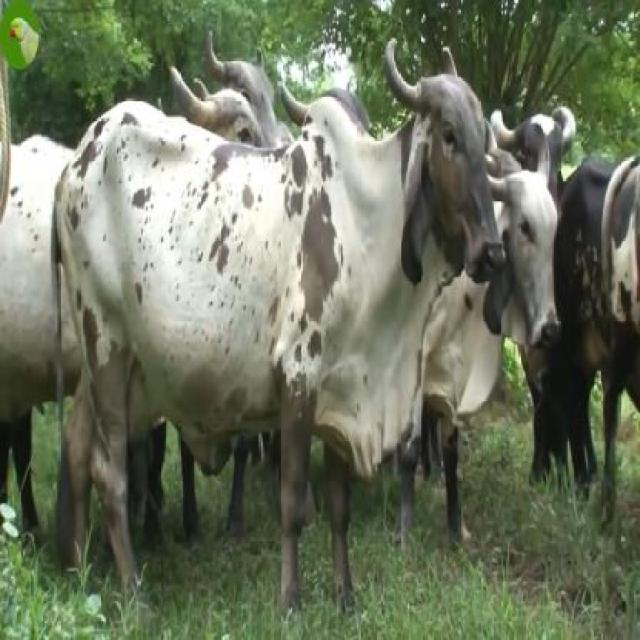Cow: (52, 54, 505, 631)
